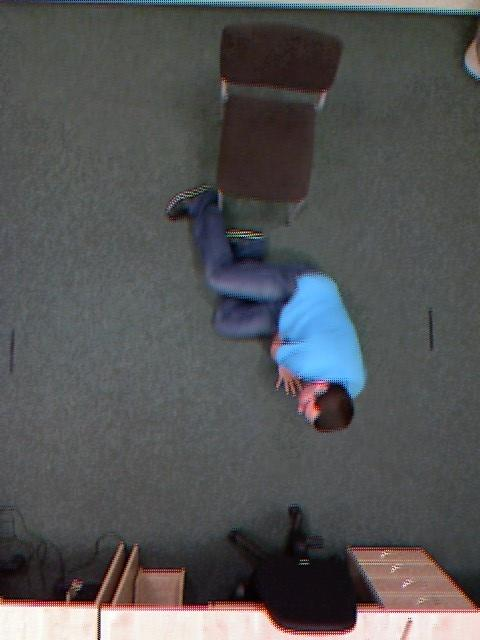fall: (169, 167, 369, 457)
